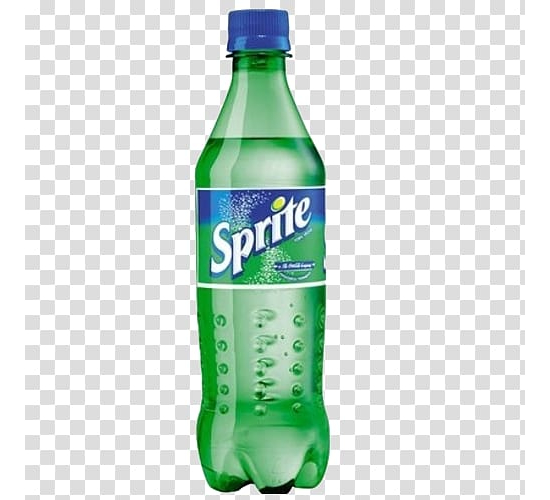sprite_bottle: (193, 9, 331, 495)
